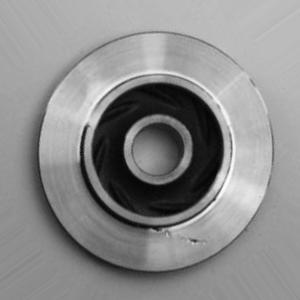defect: (139, 213, 213, 255)
